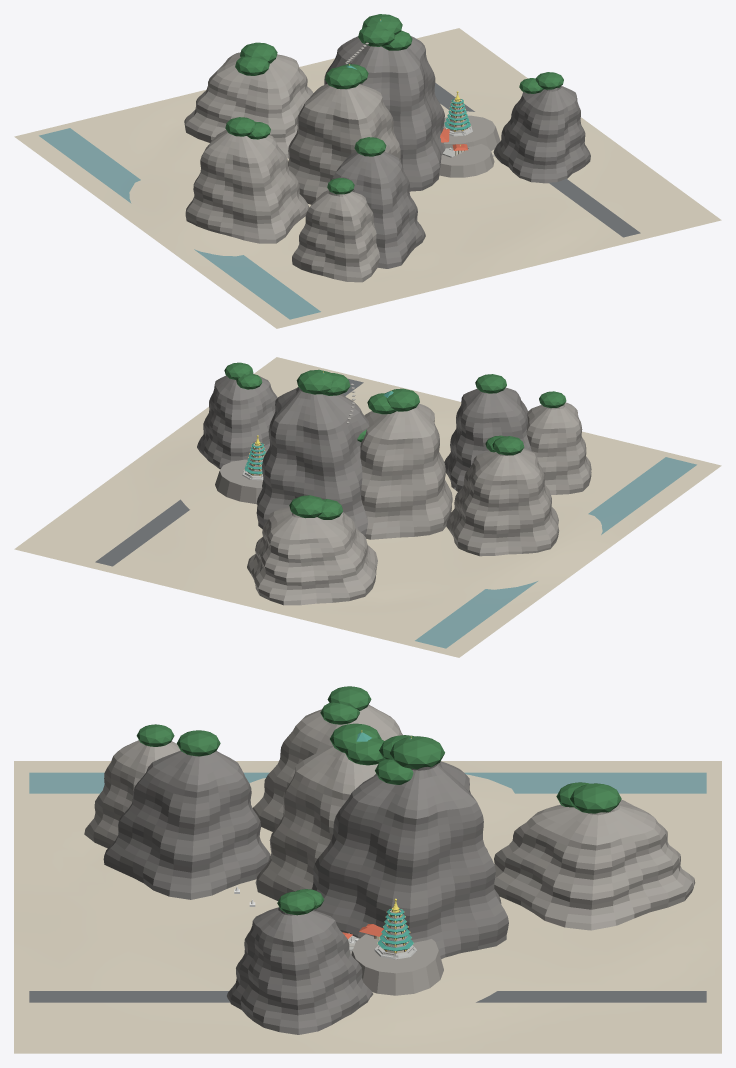
Rendered from nguhanh-son.glb.
The picture shows the model from 3 angles, top to bottom: view 1: azimuth 30°, elevation 25°; view 2: azimuth 150°, elevation 25°; view 3: azimuth 270°, elevation 25°; orthographic projection. The views are drawn at different scales.
Parts seen in each view (by area): view 1: mt_mt_ground, mt_mt_rock, mt_mt_cliff, mt_mt_canopy, mt_mt_river, mt_mt_terrace, mt_mt_road; view 2: mt_mt_ground, mt_mt_rock, mt_mt_cliff, mt_mt_canopy, mt_mt_river, mt_mt_road, mt_mt_terrace; view 3: mt_mt_ground, mt_mt_cliff, mt_mt_rock, mt_mt_canopy, mt_mt_river, mt_mt_road, mt_mt_terrace, stupa_txl_roofs.
Boxes of the visible parts, x1,y1,x2,y2 form: mt_mt_ground: (14,28,721,328); mt_mt_rock: (184,52,400,282); mt_mt_cliff: (324,36,590,268); mt_mt_canopy: (225,14,563,194); mt_mt_river: (39,128,320,319); mt_mt_terrace: (439,115,500,177); mt_mt_road: (434,83,640,237); mt_mt_ground: (14,357,721,657); mt_mt_rock: (247,402,591,605); mt_mt_cliff: (197,373,531,536); mt_mt_canopy: (224,362,566,519); mt_mt_river: (415,457,696,648); mt_mt_road: (95,378,363,566); mt_mt_terrace: (215,459,262,503); mt_mt_ground: (14,761,721,1053); mt_mt_cliff: (103,751,508,1034); mt_mt_rock: (84,705,695,930); mt_mt_canopy: (136,686,621,915); mt_mt_river: (29,772,706,793); mt_mt_road: (29,991,706,1002); mt_mt_terrace: (350,934,443,995); stupa_txl_roofs: (377,908,413,951).
Size of the model in its own units: 450 by 144 by 460.
